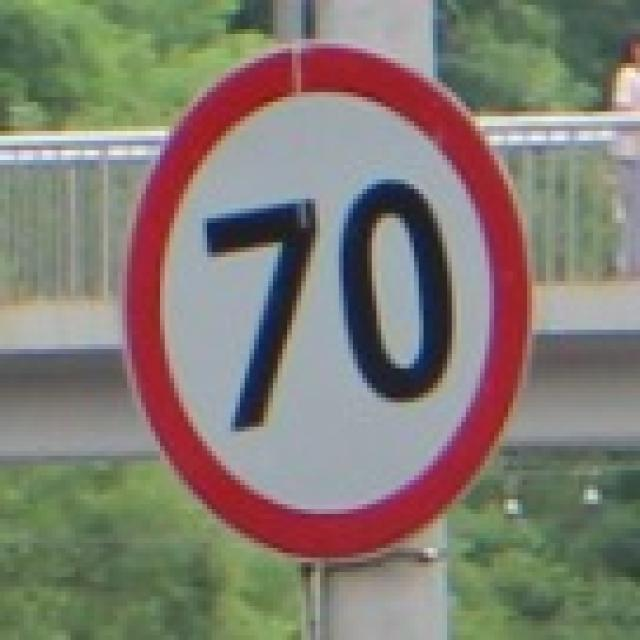Speed Limit -70-: (201, 176, 457, 434)
